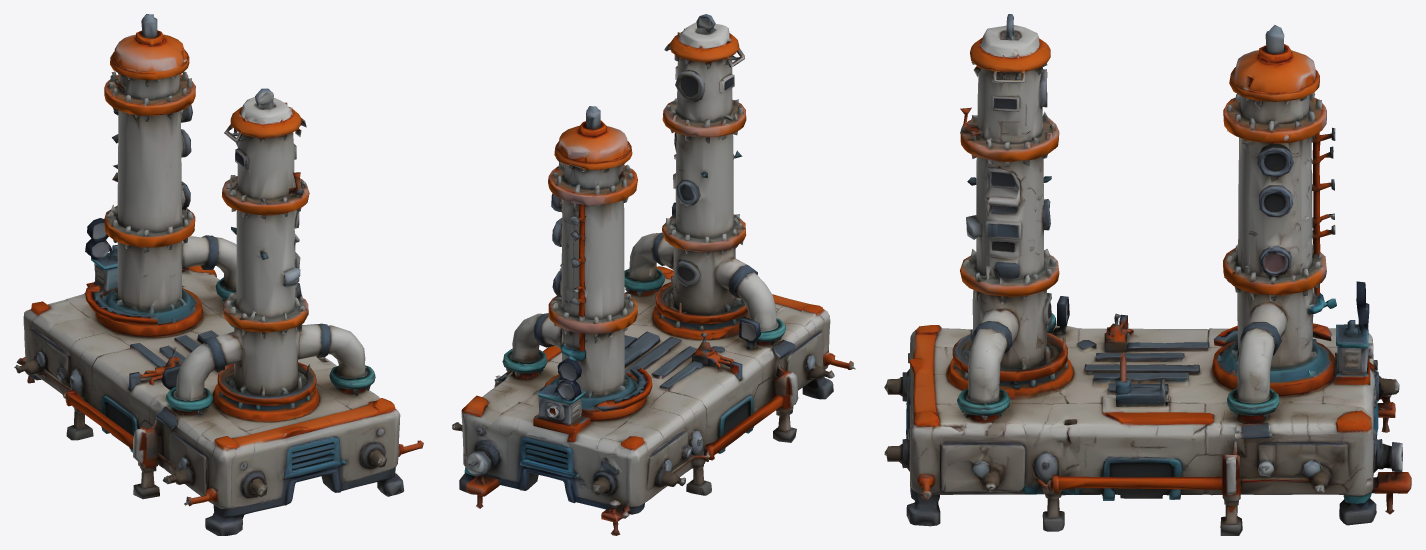
File: raffinerie.glb
The picture shows the model from 3 angles, left to right: view 1: azimuth 30°, elevation 25°; view 2: azimuth 150°, elevation 25°; view 3: azimuth 270°, elevation 25°; orthographic projection. The views are drawn at different scales.
Visible parts, largest first — view 1: tripo_node_ed29ef6b-d435-452b-ad07-c244813547d2; view 2: tripo_node_ed29ef6b-d435-452b-ad07-c244813547d2; view 3: tripo_node_ed29ef6b-d435-452b-ad07-c244813547d2.
Boxes of the visible parts, x1,y1,x2,y2 form: tripo_node_ed29ef6b-d435-452b-ad07-c244813547d2: (14, 14, 423, 535); tripo_node_ed29ef6b-d435-452b-ad07-c244813547d2: (452, 14, 855, 535); tripo_node_ed29ef6b-d435-452b-ad07-c244813547d2: (884, 14, 1411, 535).
Size of the model in its own units: 0.6103 by 0.9621 by 1.
Materials: 1 (1 with a texture image).
